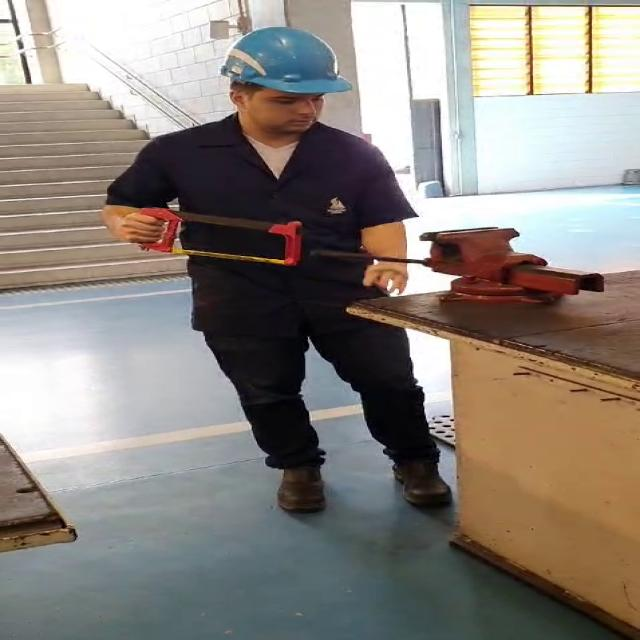sem_oculos: (221, 87, 336, 108)
